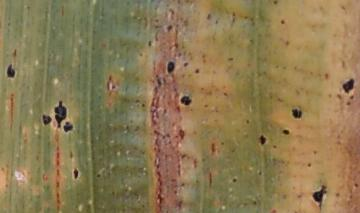tarspot: (307, 181, 331, 208), (51, 98, 67, 136), (339, 75, 358, 97), (176, 90, 196, 109), (288, 103, 308, 122), (4, 59, 18, 83), (163, 57, 178, 77), (60, 118, 76, 134), (256, 131, 270, 148), (68, 164, 82, 181), (38, 112, 53, 127), (281, 126, 291, 138)
